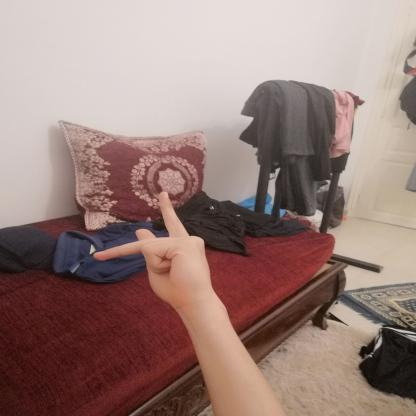DHAA: (81, 183, 219, 311)
